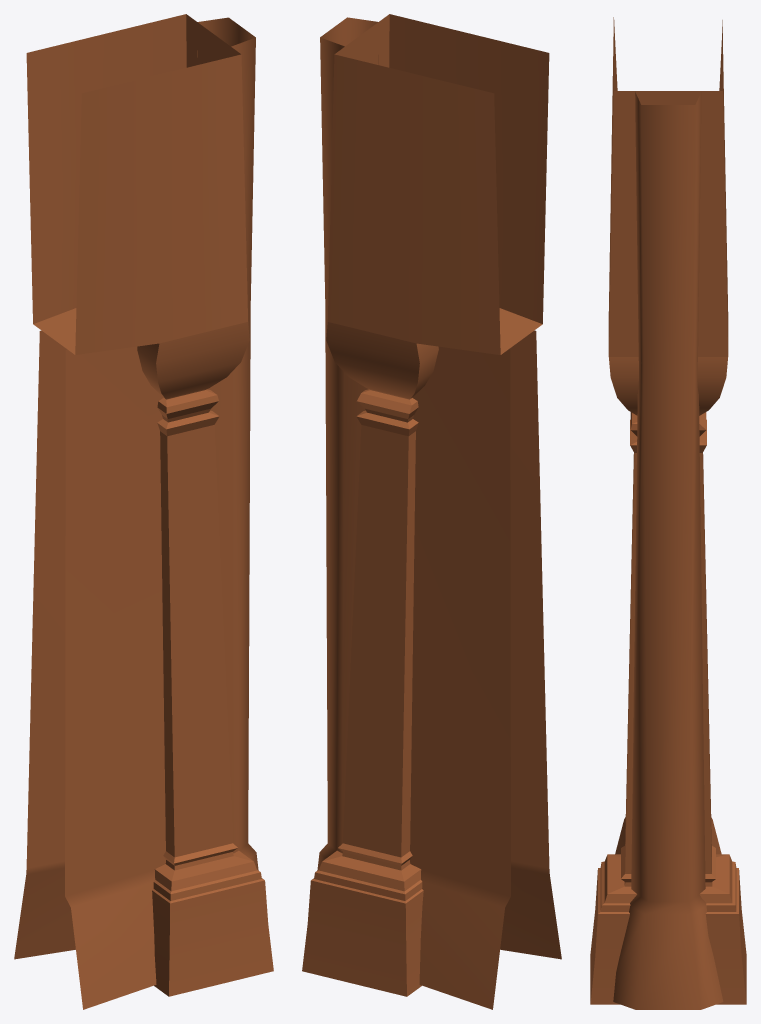
The model's file is Column 1.fbx.
3 renders of one model, left to right at view 1: azimuth 30°, elevation 25°; view 2: azimuth 150°, elevation 25°; view 3: azimuth 270°, elevation 25°, orthographic.
Parts seen in each view (by area): view 1: Column_01; view 2: Column_01; view 3: Column_01.
Boxes of the visible parts, x1,y1,x2,y2 form: Column_01: [14, 14, 273, 1009]; Column_01: [302, 14, 561, 1009]; Column_01: [590, 17, 746, 1009].
Size of the model in its own units: 128 by 544 by 85.2.
